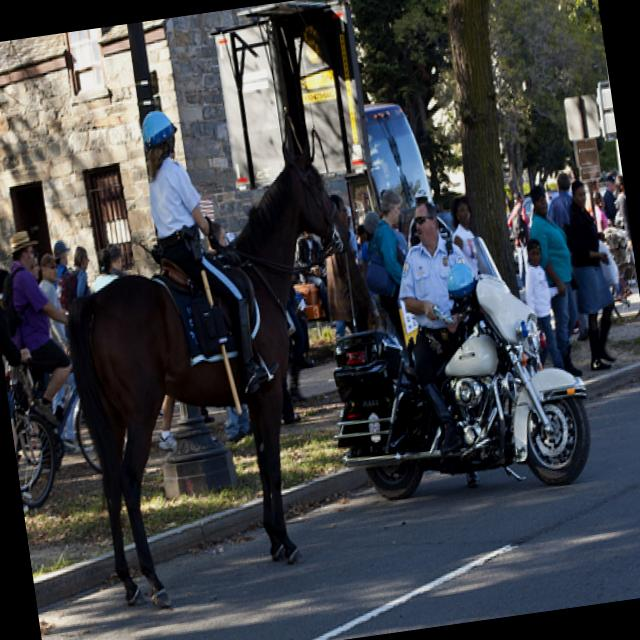Vehicle: (313, 223, 599, 517), (364, 103, 438, 229), (406, 209, 458, 248)
